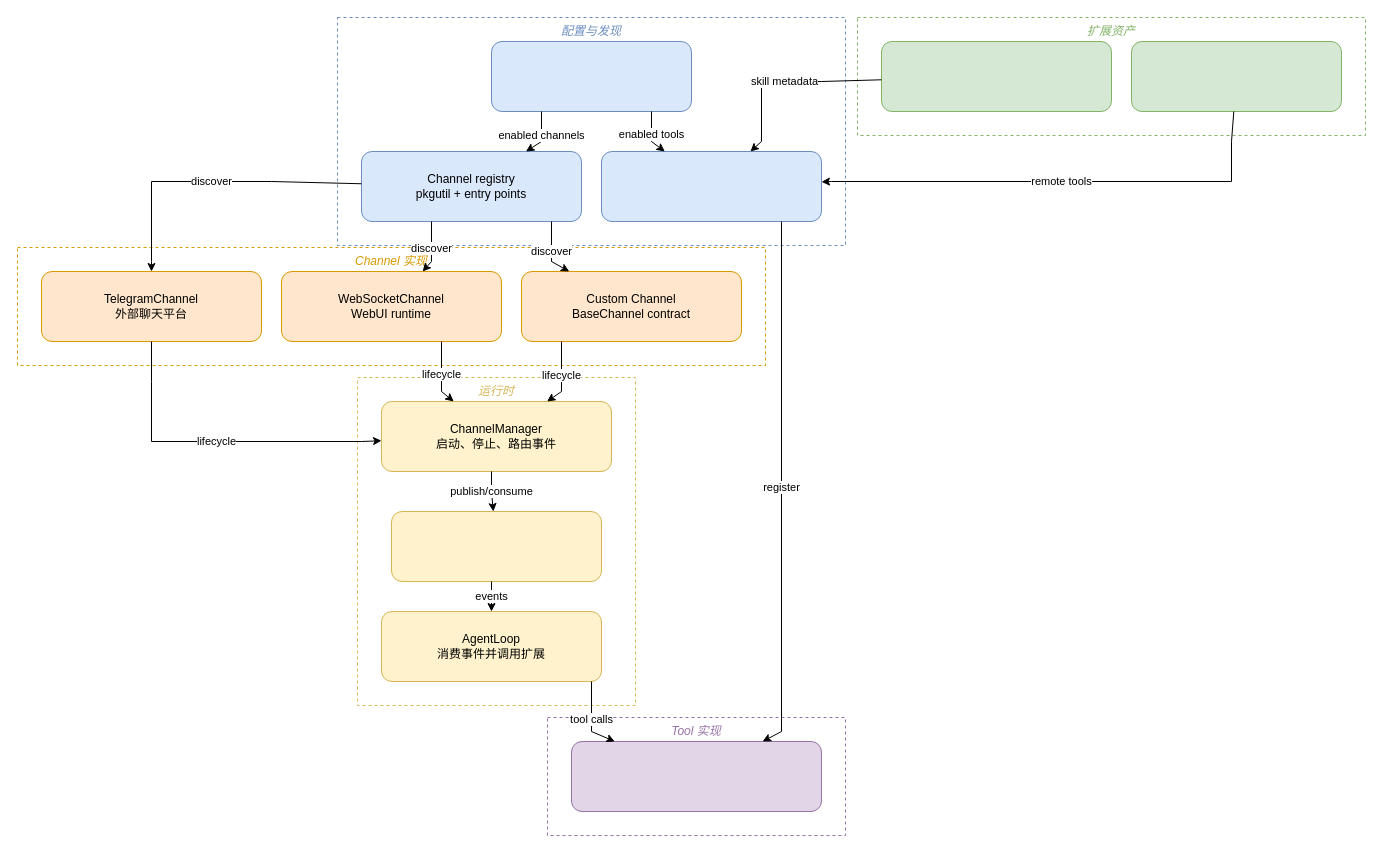
Image size: 1383x853. Some labels were removed from this diagram. The centre of each missing label's shape, as x and y in pixels:
"Built-in Skills cron / github / image-generation" goes at (x=996, y=76).
"Config channels / MCP / skills" goes at (x=591, y=76).
"MCP servers 外部工具协议" goes at (x=1236, y=76).
"MessageBus 统一事件契约" goes at (x=496, y=546).
"Tool loader module scan + plugins" goes at (x=711, y=186).
"Tool objects name / description / parameters / execute" goes at (x=696, y=776).
